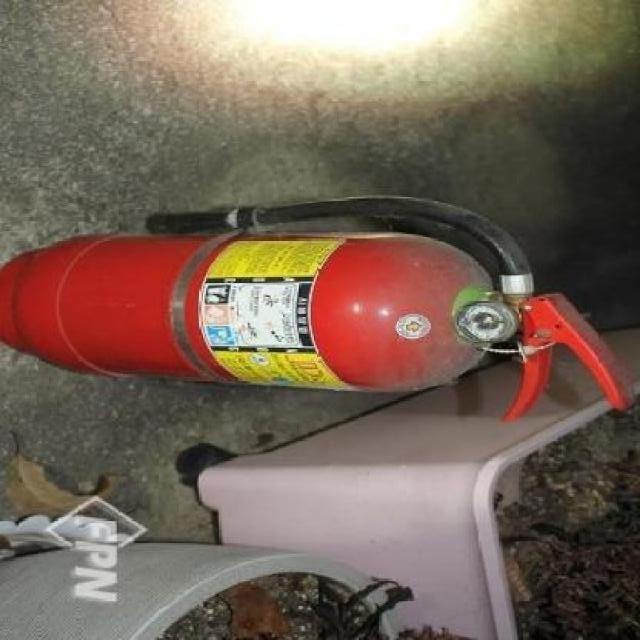fire extinguisher: (0, 196, 637, 422)
